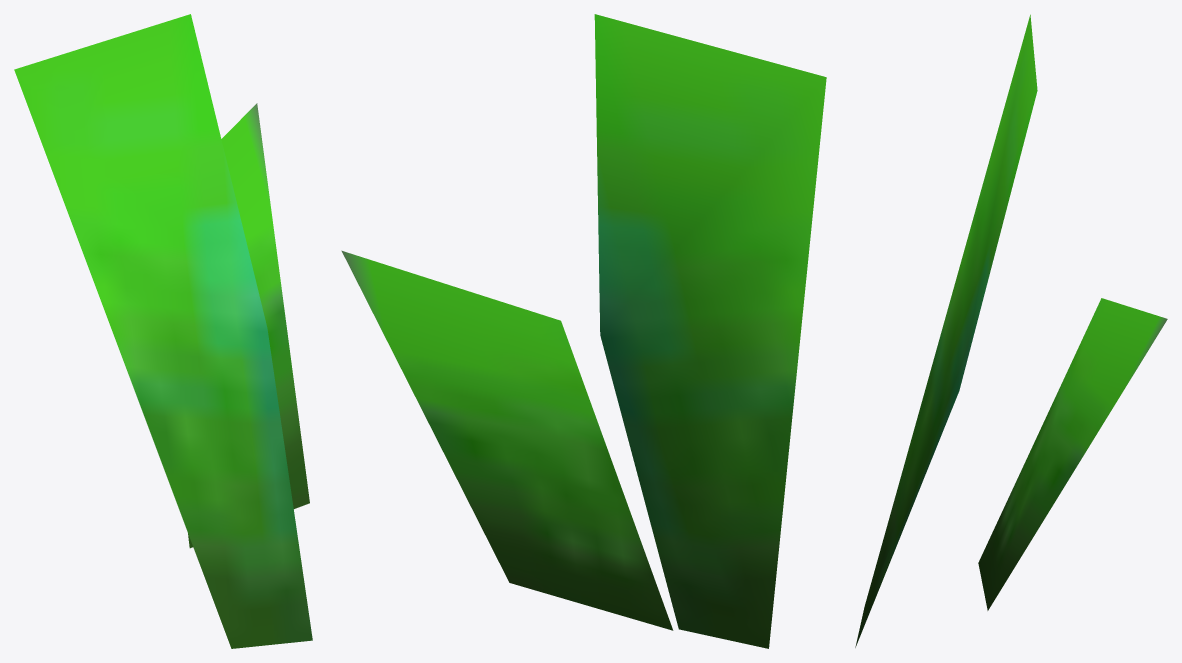
Rendered from fg_grassA.dae.
3 renders of one model, left to right at view 1: azimuth 30°, elevation 25°; view 2: azimuth 150°, elevation 25°; view 3: azimuth 270°, elevation 25°, orthographic. The views are drawn at different scales.
Parts seen in each view (by area): view 1: fg_grassA; view 2: fg_grassA; view 3: fg_grassA.
Boxes of the visible parts, x1,y1,x2,y2 form: fg_grassA: [14, 14, 312, 648]; fg_grassA: [341, 14, 826, 648]; fg_grassA: [855, 14, 1167, 647].
Size of the model in its own units: 11.97 by 20.54 by 10.68.
Materials: 1 (1 with a texture image).
